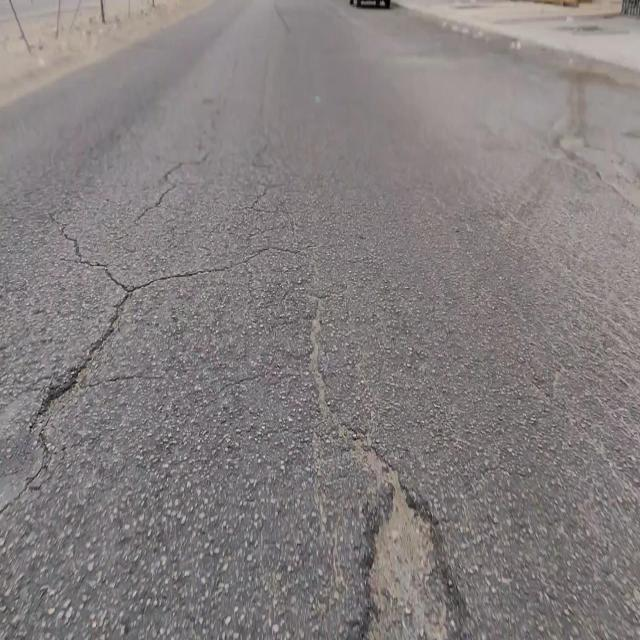Pothole: (357, 465, 459, 640)
